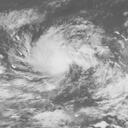cyclone: (5, 9, 124, 108)
